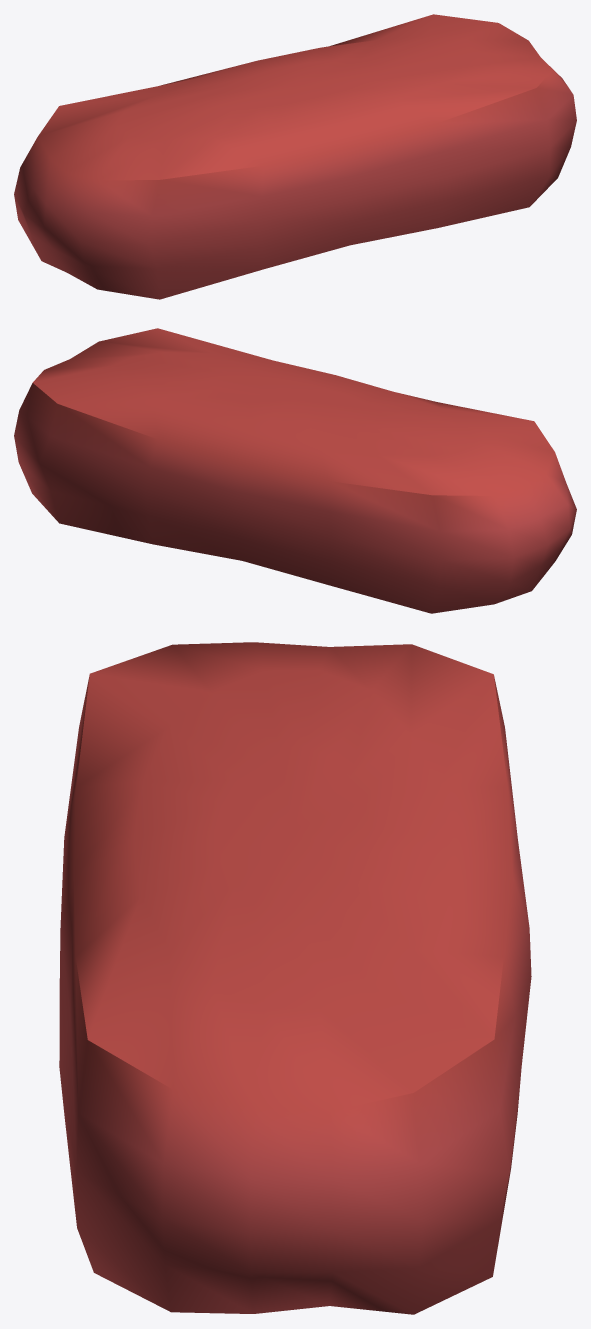
The model's file is gale_ram_loin.glb.
3 views of the same model, one above another, from view 1: azimuth 30°, elevation 25°; view 2: azimuth 150°, elevation 25°; view 3: azimuth 270°, elevation 25° (orthographic). The views are drawn at different scales.
Parts seen in each view (by area): view 1: gale_ram_loin; view 2: gale_ram_loin; view 3: gale_ram_loin.
Part boxes in pixels (left/top/right/bottom): gale_ram_loin: left=14, top=14, right=576, bottom=299; gale_ram_loin: left=14, top=328, right=576, bottom=613; gale_ram_loin: left=59, top=642, right=531, bottom=1314.
Size of the model in its own units: 0.18 by 0.045 by 0.07.
